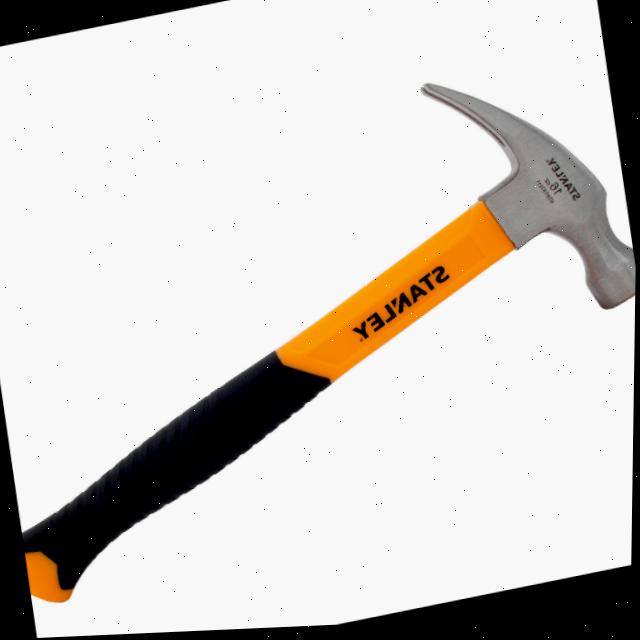hammer: (0, 44, 639, 618)
